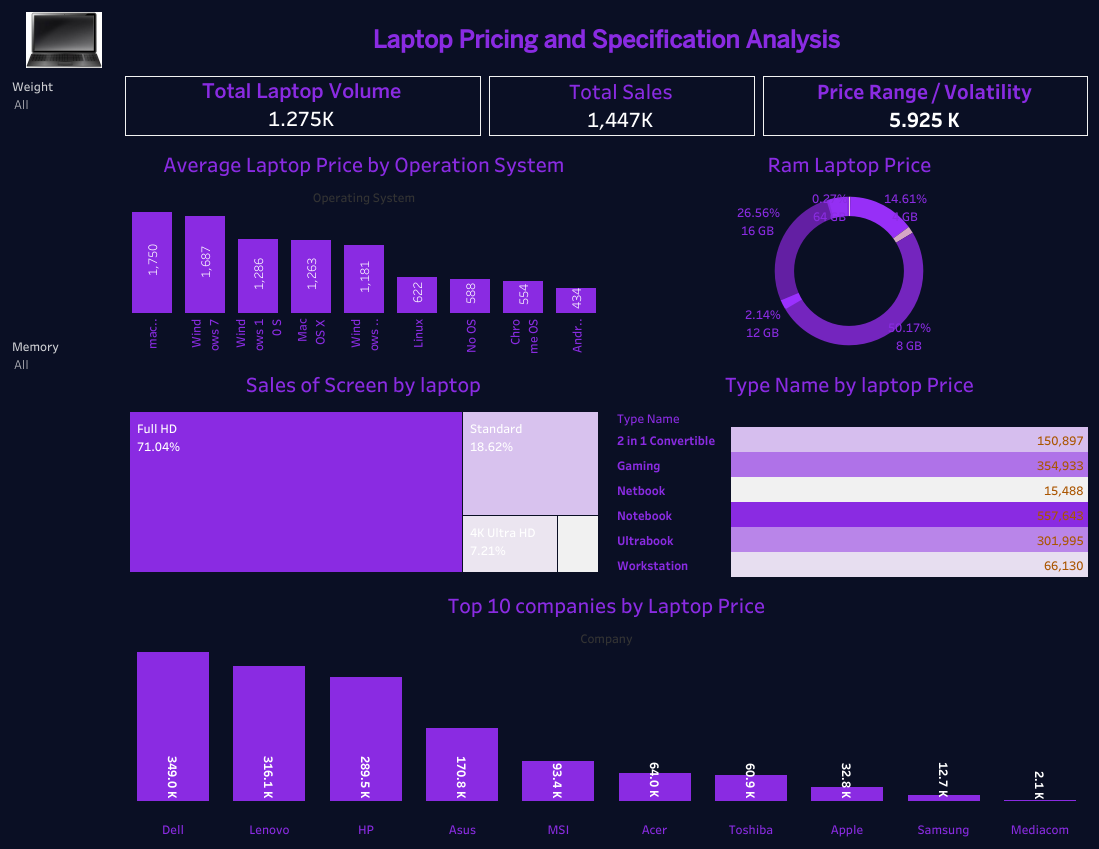

This screenshot's page, from the dashboard's own definition file:
{"tool":"tableau","page":{"name":"Laptop Pricing and Specification Analysis","canvas":[1100,850],"ordinal":0},"visuals":[{"type":"image","param":"C:/Users/DELL/Downloads/images.jpeg","box":[8,8,113,64]},{"type":"title","box":[121,8,971,64]},{"type":"filter","title":"Top 10 companies by Laptop Price ","param":"[federated.126viww00r61a71ahklj31w0vey7].[none:Weight:nk]","box":[8,72,113,260]},{"type":"worksheet","title":"Total Laptop Volume","mark":"Automatic","box":[121,72,364,68]},{"type":"worksheet","title":"Total Sales","mark":"Automatic","box":[485,72,274,68]},{"type":"worksheet","title":"Price Range / Volatility","mark":"Automatic","box":[759,72,333,68]},{"type":"worksheet","title":"Average Laptop Price by Operation System ","mark":"Automatic","rows":["Price"],"cols":["Operating System"],"box":[121,140,485.5,220.5]},{"type":"worksheet","title":"Ram Laptop Price","mark":"Pie","cols":["Calculation_1941051447012708356","Calculation_1941051447012741126"],"box":[606.5,140,485.5,220.5]},{"type":"filter","title":"Top 10 companies by Laptop Price ","param":"[federated.126viww00r61a71ahklj31w0vey7].[none:Memory:nk]","box":[8,332,113,510]},{"type":"worksheet","title":"Sales of Screen by laptop","mark":"Automatic","box":[121,360.5,485.5,220.5]},{"type":"worksheet","title":"Type Name by laptop Price","mark":"Square","rows":["TypeName"],"box":[606.5,360.5,485.5,220.5]},{"type":"worksheet","title":"Top 10 companies by Laptop Price ","mark":"Automatic","rows":["Price"],"cols":["Company"],"box":[121,581,971,261]}]}

Visuals, with their boxes in screenshot pixels (x1, y1, x2, y2), scaled from the page's 1100x850 canvas onto the 1099x849 screenshot:
image: (8, 8, 121, 72)
title: (121, 8, 1091, 72)
"Top 10 companies by Laptop Price " filter: (8, 72, 121, 332)
"Total Laptop Volume" worksheet: (121, 72, 485, 140)
"Total Sales" worksheet: (485, 72, 758, 140)
"Price Range / Volatility" worksheet: (758, 72, 1091, 140)
"Average Laptop Price by Operation System " worksheet: (121, 140, 606, 360)
"Ram Laptop Price" worksheet (Pie marks): (606, 140, 1091, 360)
"Top 10 companies by Laptop Price " filter: (8, 332, 121, 841)
"Sales of Screen by laptop" worksheet: (121, 360, 606, 580)
"Type Name by laptop Price" worksheet (Square marks): (606, 360, 1091, 580)
"Top 10 companies by Laptop Price " worksheet: (121, 580, 1091, 841)
